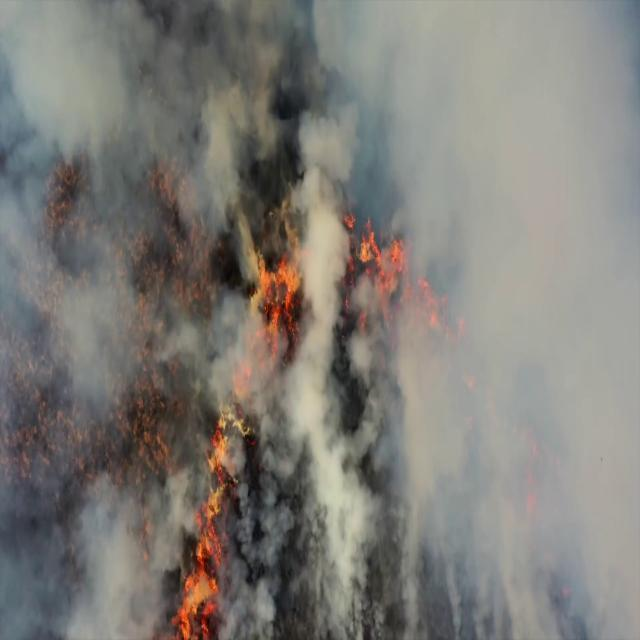Fire: (171, 423, 235, 625), (246, 251, 306, 337), (353, 222, 410, 311)
Smoke: (463, 7, 637, 617)
